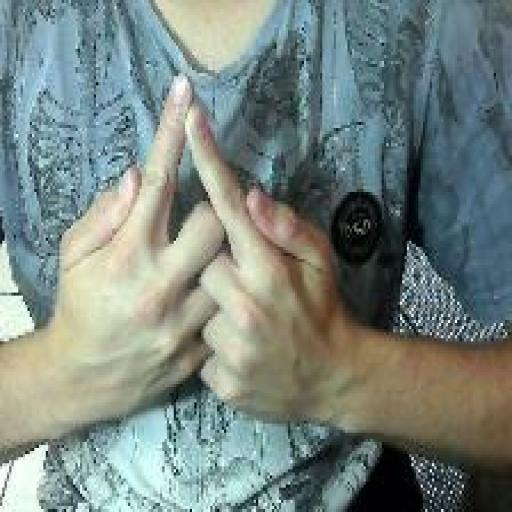Uma -horse-: (52, 66, 343, 434)
